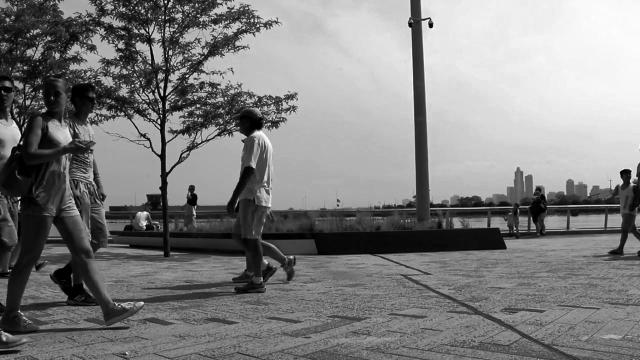berjalan: (3, 75, 146, 333), (221, 106, 301, 298), (48, 80, 104, 308), (602, 165, 640, 258)
